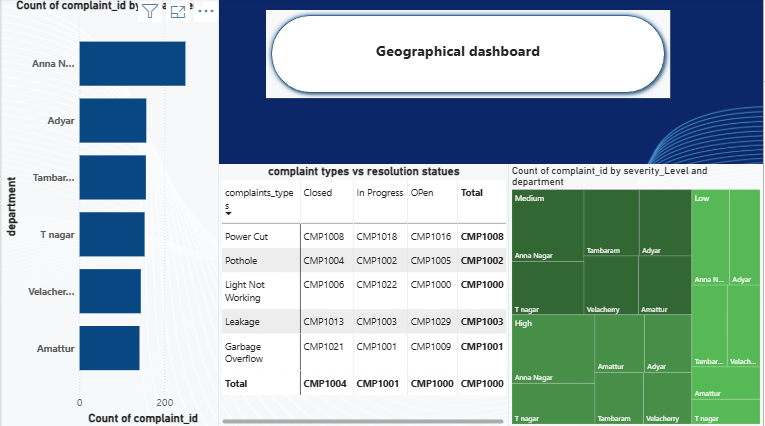

The page's visual inventory and layout, read from the dashboard file:
{"tool":"powerbi","page":{"name":"geograohical dashboard","canvas":[1280,720],"ordinal":5},"visuals":[{"type":"clusteredBarChart","fields":{"Category":["Smart_city xlsx.department"],"Y":["CountNonNull(Smart_city xlsx.complaint_id)"]},"box":[0,0,366.2,720.6],"z":0},{"type":"treemap","fields":{"Group":["Smart_city xlsx.severity_Level"],"Details":["Smart_city xlsx.department"],"Values":["CountNonNull(Smart_city xlsx.complaint_id)"]},"box":[853.3,278.8,426.7,441.8],"z":1000},{"type":"pivotTable","title":"complaint types vs resolution statues","fields":{"Rows":["Smart_city xlsx.complaints_types"],"Columns":["Smart_city xlsx.statuses"],"Values":["Min(Smart_city xlsx.complaint_id)"]},"box":[366.2,278.8,487.1,441.8],"z":2000},{"type":"shape","box":[445.1,20.2,678.6,147.8],"z":2001},{"type":"textbox","box":[621.5,67.2,292.3,52.1],"z":2002}]}

Visuals, with their boxes in screenshot pixels (x1, y1, x2, y2), scaled from the page's 1280x720 canvas onto the 765x426 screenshot:
clusteredBarChart - Smart_city xlsx.department x CountNonNull(Smart_city xlsx.complaint_id): [0, 0, 219, 425]
treemap - Smart_city xlsx.severity_Level x Smart_city xlsx.department: [510, 165, 764, 425]
"complaint types vs resolution statues" pivotTable: [219, 165, 510, 425]
shape: [266, 12, 672, 99]
textbox: [371, 40, 546, 71]
